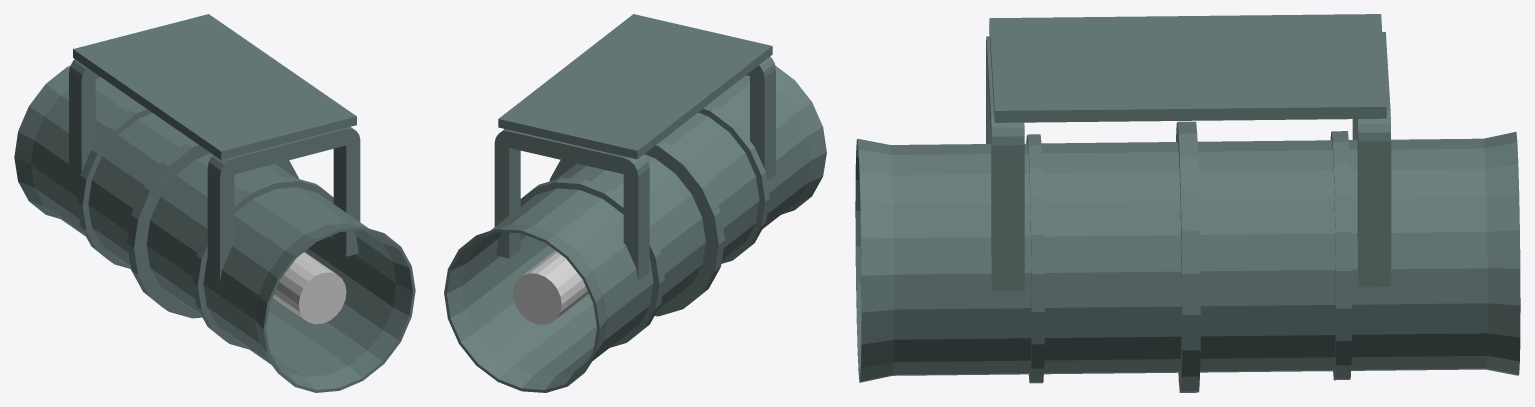
File: fan-shell.obj
The picture shows the model from 3 angles, left to right: view 1: azimuth 30°, elevation 25°; view 2: azimuth 150°, elevation 25°; view 3: azimuth 270°, elevation 25°; orthographic projection. The views are drawn at different scales.
Visible parts, largest first — view 1: Fan; view 2: Fan; view 3: Fan.
Boxes of the visible parts, x1,y1,x2,y2 form: Fan: [14, 14, 415, 392]; Fan: [444, 14, 826, 392]; Fan: [855, 14, 1520, 392].
Size of the model in its own units: 1.25 by 1.6 by 3.03.
